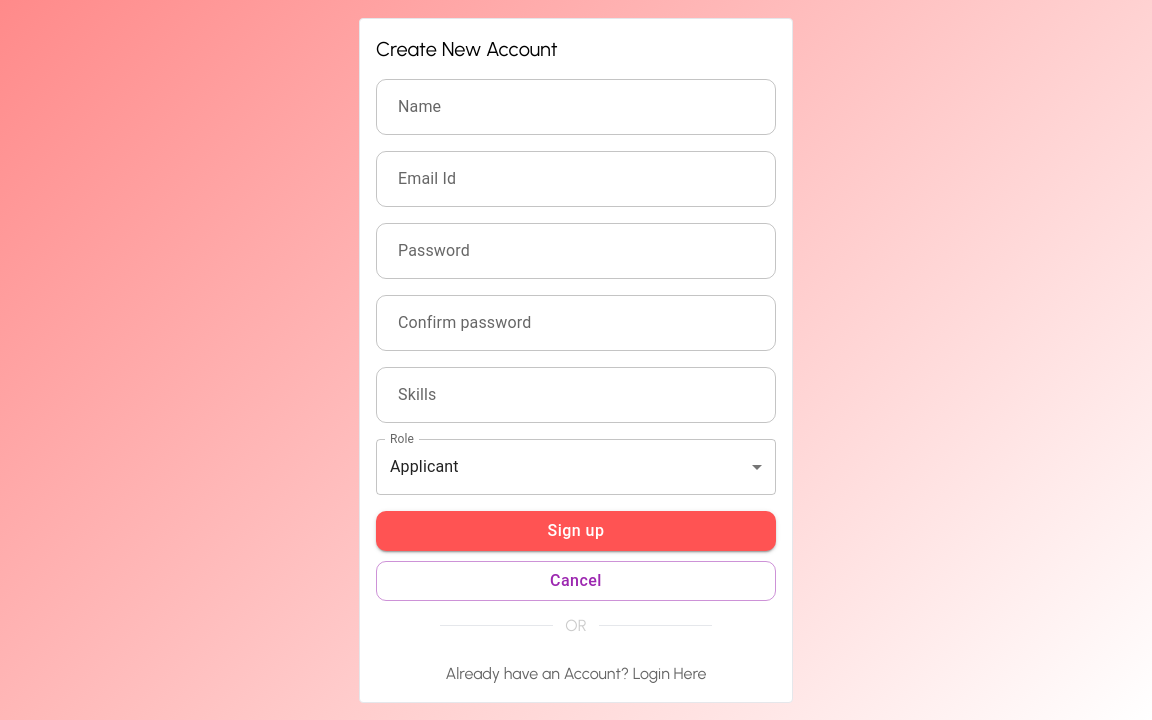
RegistrationPage › displays email format validation error for invalid email
Type "invalid-email" into the field labelled "Email Id". click: (576, 178)
box: x1=376 y1=150 x2=776 y2=206
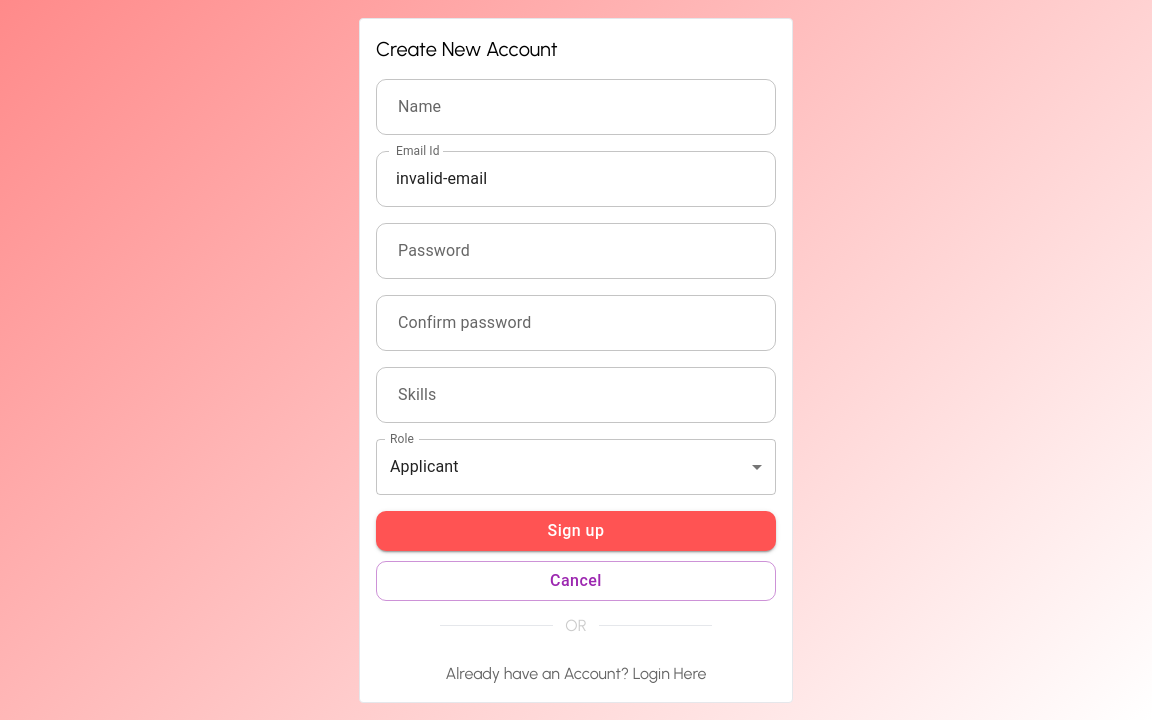
Click the button "Sign up". click: (576, 530)
box: x1=376 y1=510 x2=776 y2=550
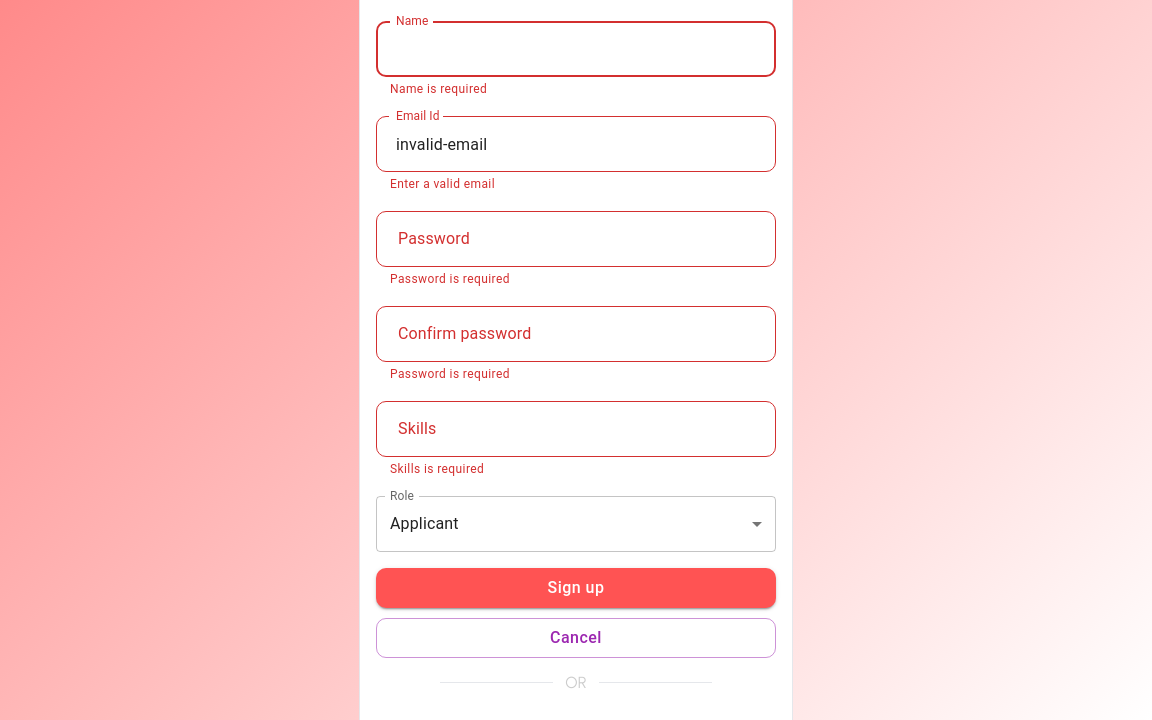
Now the text "Enter a valid email" is shown, box x1=390 y1=177 x2=495 y2=191
